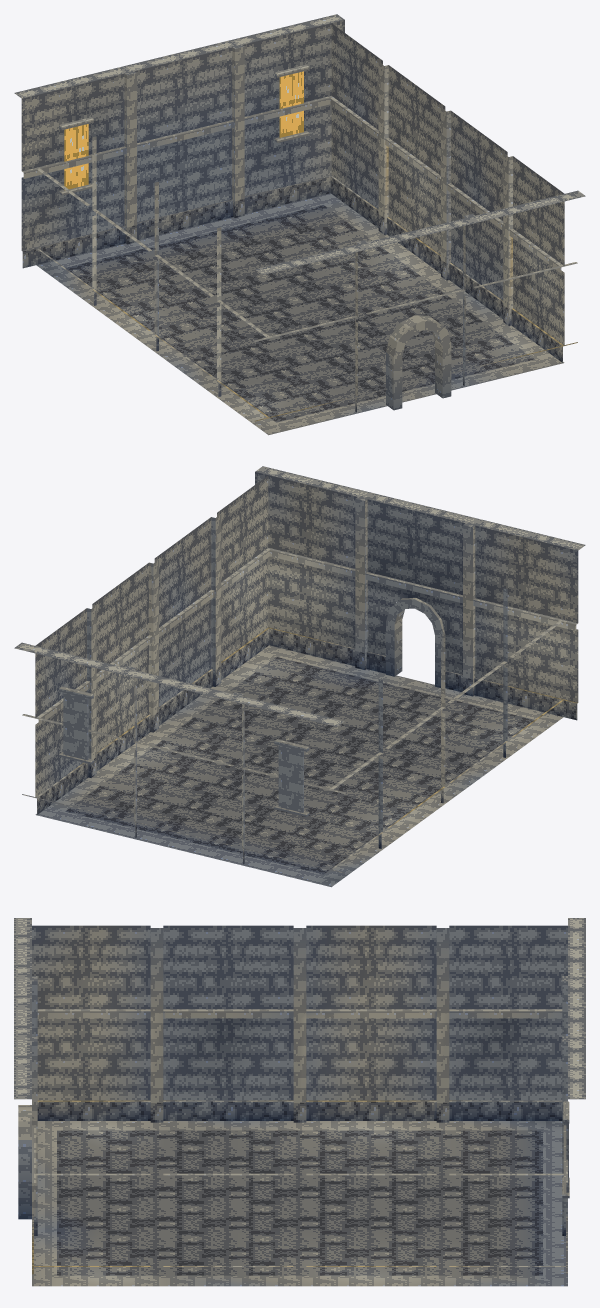
The model's file is cst.hall.glb.
3 views of the same model, one above another, from view 1: azimuth 30°, elevation 25°; view 2: azimuth 150°, elevation 25°; view 3: azimuth 270°, elevation 25° (orthographic). The views are drawn at different scales.
Parts seen in each view (by area): view 1: kit_shell_walls, kit_shell_floor, kit_fittings; view 2: kit_shell_walls, kit_shell_floor, kit_fittings; view 3: kit_shell_walls, kit_shell_floor, kit_fittings.
Part boxes in pixels (x1,y1,x2,y2): kit_shell_walls: [14, 14, 585, 421]; kit_shell_floor: [36, 193, 564, 435]; kit_fittings: [59, 64, 451, 410]; kit_shell_walls: [14, 466, 585, 873]; kit_shell_floor: [35, 645, 563, 887]; kit_fittings: [59, 598, 445, 816]; kit_shell_walls: [14, 918, 585, 1274]; kit_shell_floor: [32, 1121, 567, 1286]; kit_fittings: [18, 1101, 569, 1219].
Size of the model in its own units: 12 by 6 by 16.
5 materials, 5 textured.
